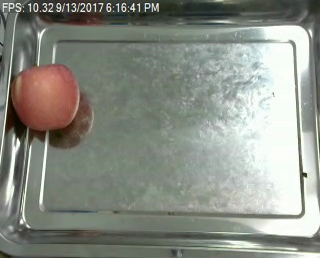Apple: (9, 63, 79, 131)
